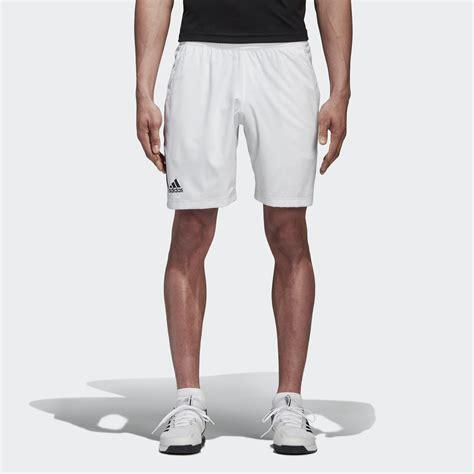short: (166, 41, 319, 210)
